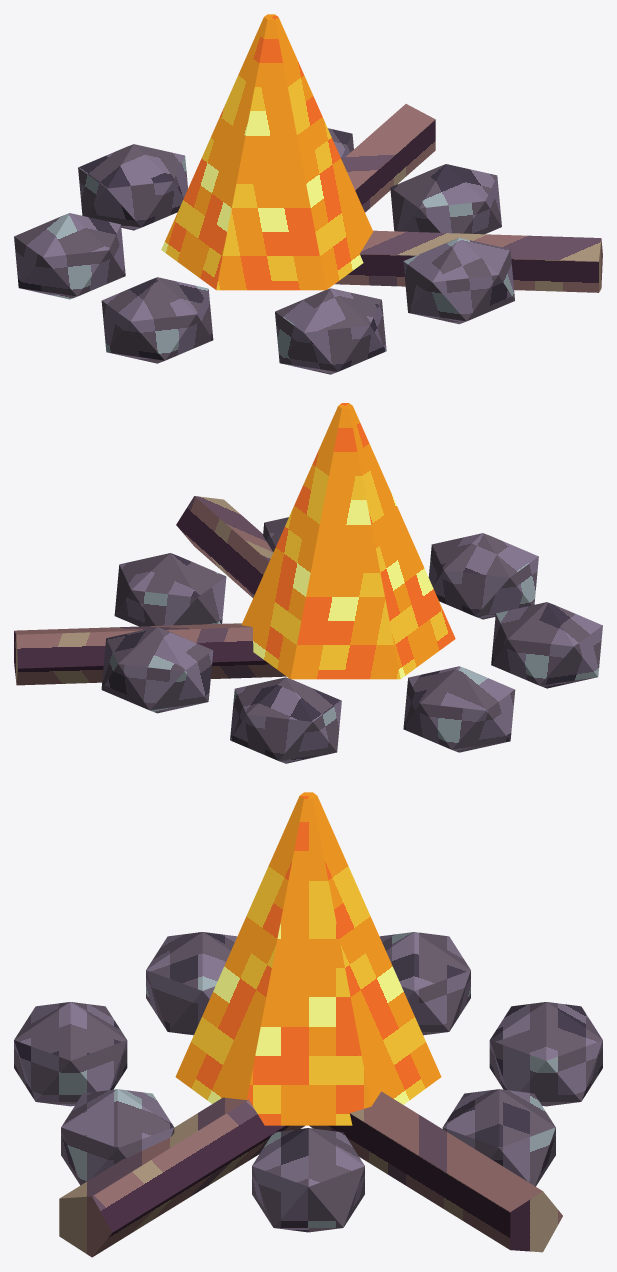
File: r02_fogueira.glb
The picture shows the model from 3 angles, top to bottom: view 1: azimuth 30°, elevation 25°; view 2: azimuth 150°, elevation 25°; view 3: azimuth 270°, elevation 25°; orthographic projection. The views are drawn at different scales.
Visible parts, largest first — view 1: r02_fogueira; view 2: r02_fogueira; view 3: r02_fogueira.
Part boxes in pixels (box(x1,y1,x2,y2)): r02_fogueira: box(14, 14, 602, 374); r02_fogueira: box(14, 403, 602, 763); r02_fogueira: box(14, 792, 602, 1257).
Bounding box in the file's own units: 1.44 × 0.83 × 1.33.
3 materials, 3 textured.
